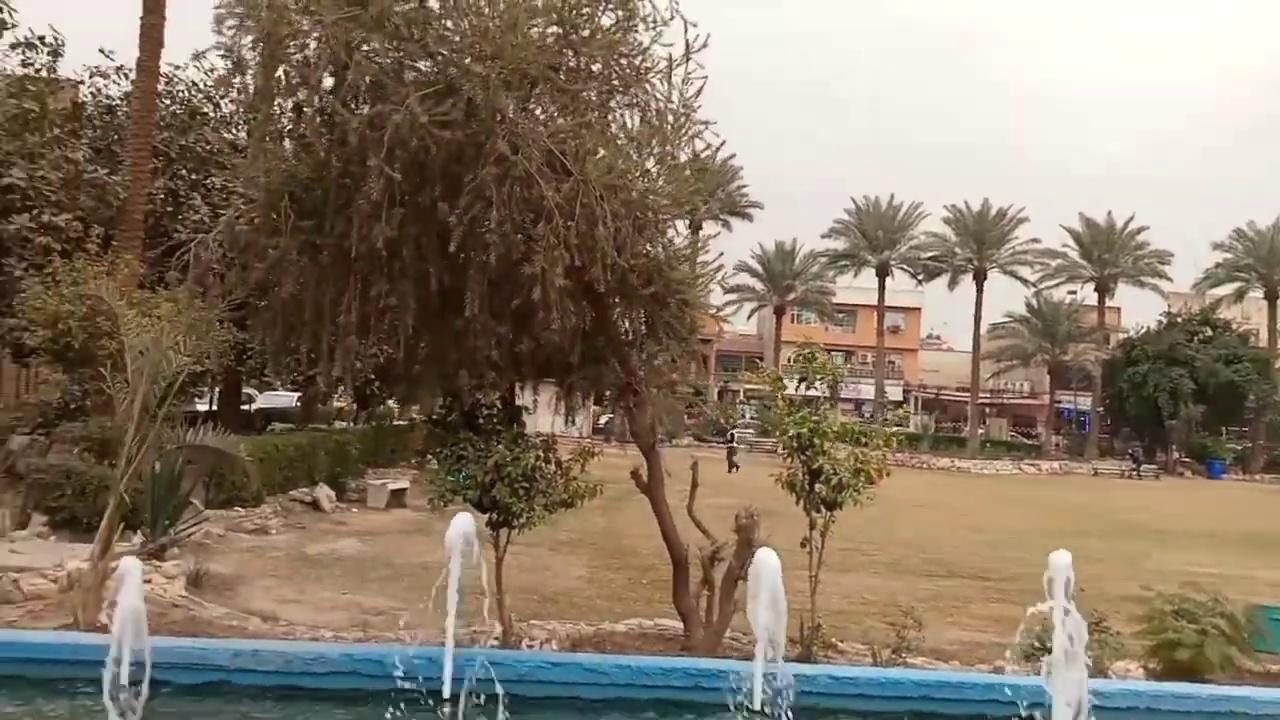fountain: (2, 528, 1276, 718), (0, 629, 1278, 718), (384, 509, 511, 718), (719, 503, 796, 717), (1009, 546, 1095, 718), (428, 509, 492, 701), (99, 554, 152, 718)
person: (724, 431, 739, 473), (1127, 446, 1144, 479)
tree: (208, 0, 773, 655), (9, 247, 258, 630), (214, 0, 399, 424), (416, 388, 605, 648), (747, 341, 898, 662), (1033, 208, 1174, 457), (916, 196, 1041, 456), (817, 191, 935, 424), (1115, 300, 1269, 473), (1191, 214, 1279, 471), (980, 288, 1090, 457), (720, 236, 838, 380), (1033, 208, 1174, 328), (1116, 345, 1197, 470)
